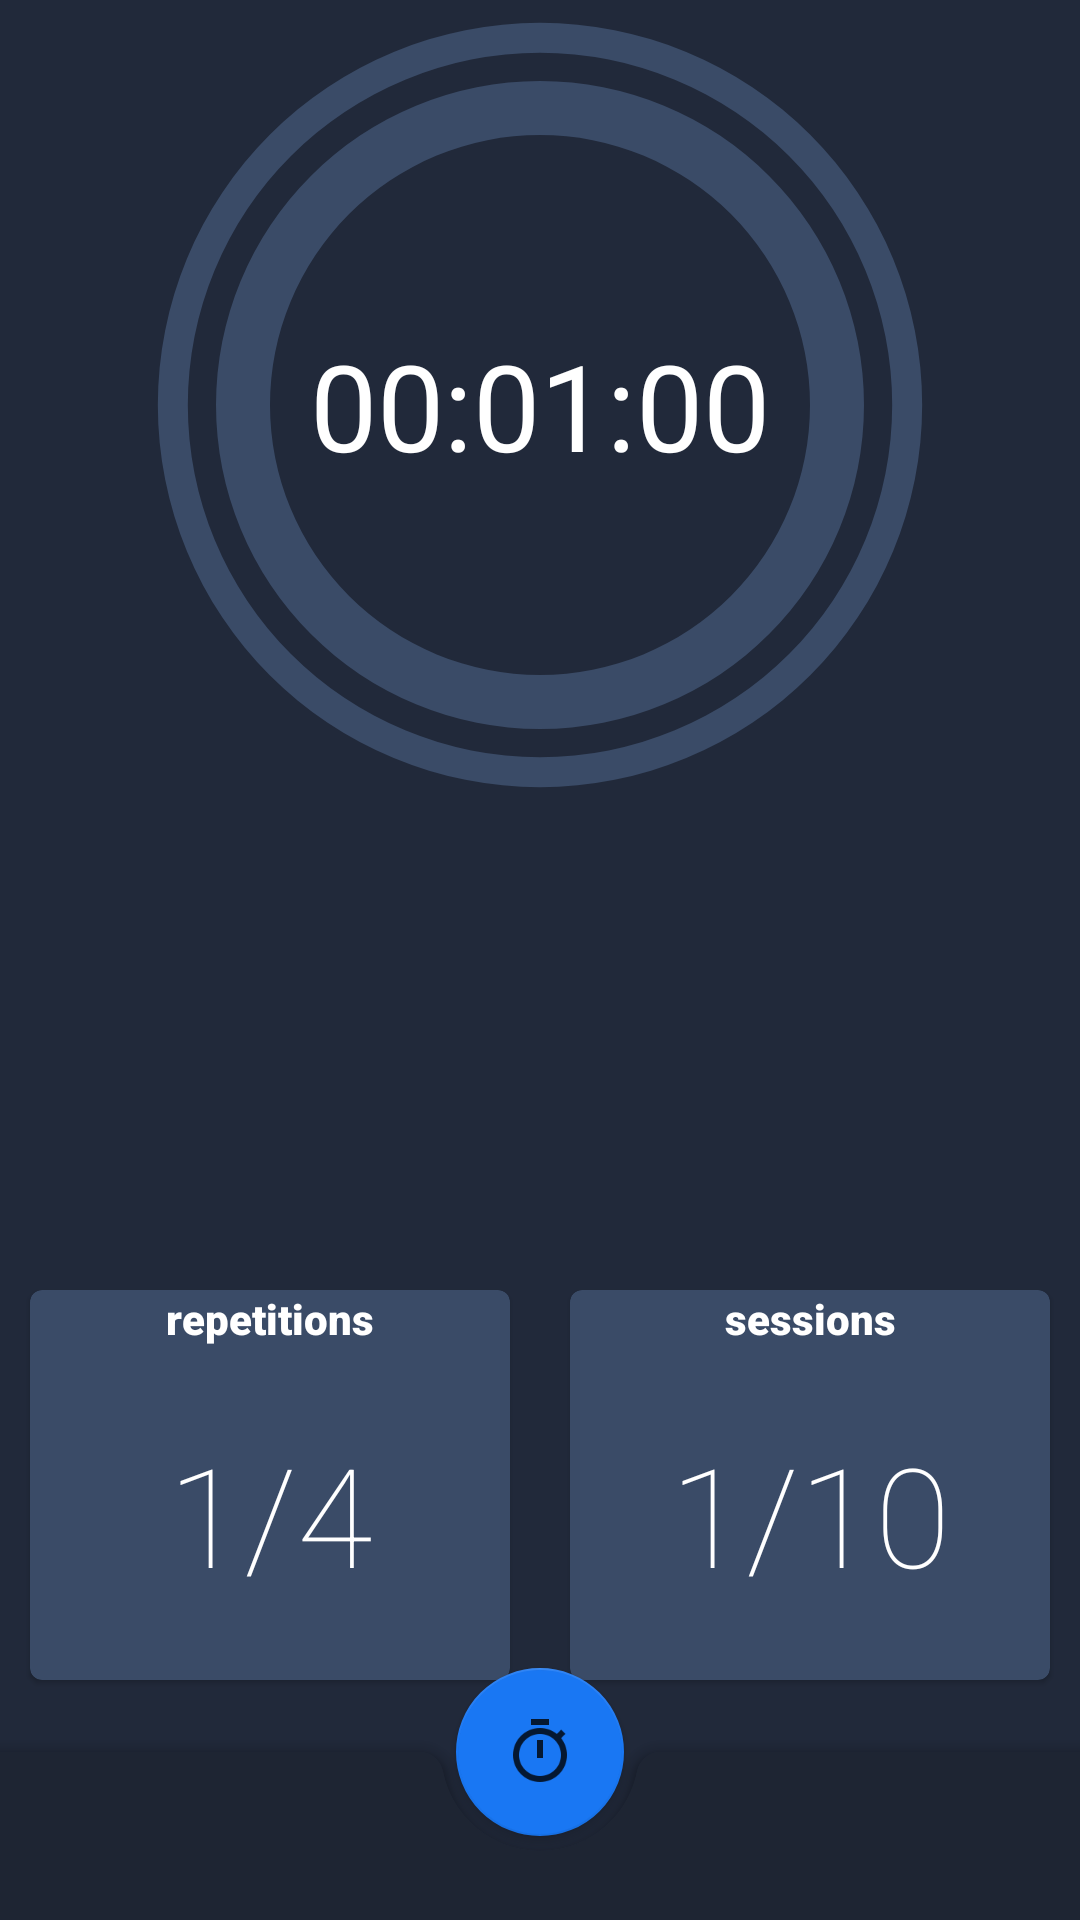

Where to tap for icons on this 1080×1920 app screen, as point (x, y):
timer: point (540, 1752)
